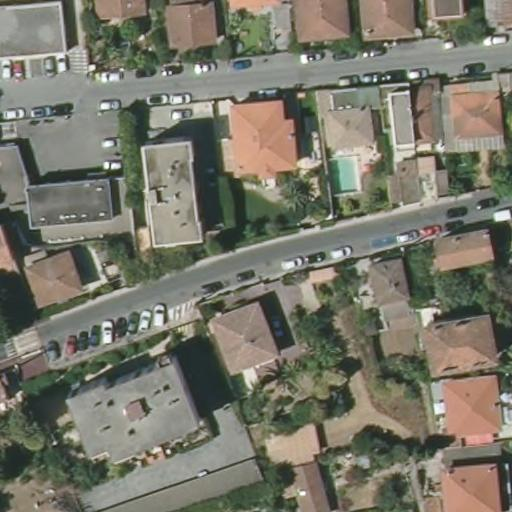pool: (321, 151, 367, 197)
